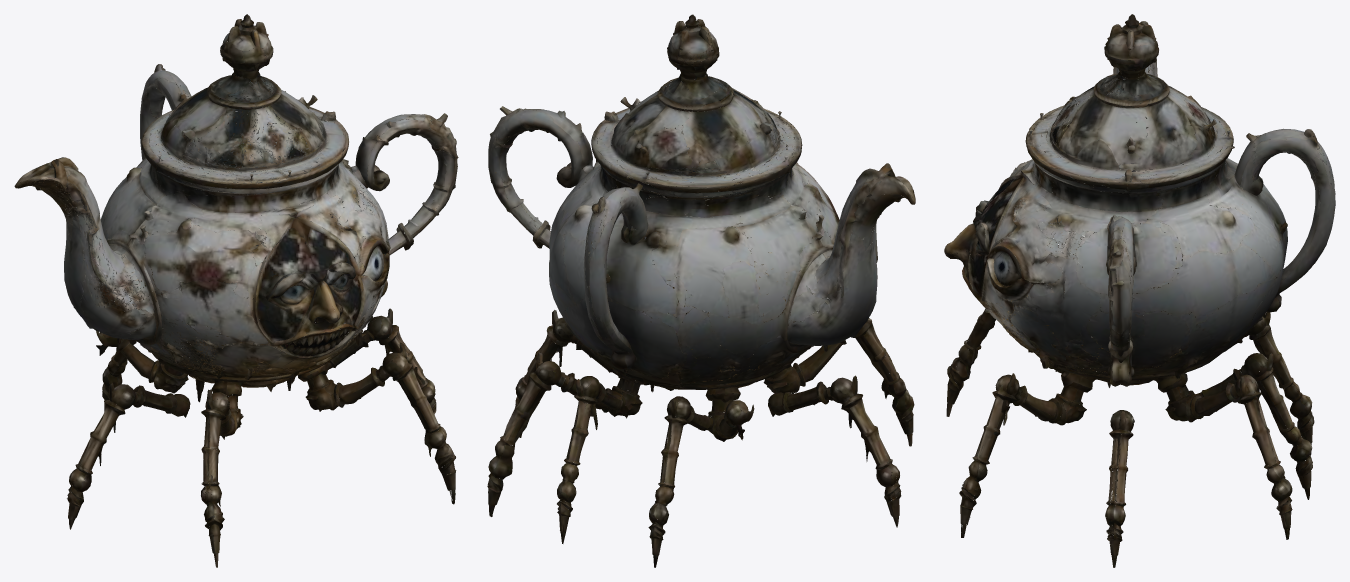
Rendered from mob-bule.glb.
3 renders of one model, left to right at view 1: azimuth 30°, elevation 25°; view 2: azimuth 150°, elevation 25°; view 3: azimuth 270°, elevation 25°, orthographic. The views are drawn at different scales.
Parts seen in each view (by area): view 1: node_0; view 2: node_0; view 3: node_0.
Part boxes in pixels (<box>): node_0: <box>14,14,458,567</box>; node_0: <box>487,14,915,567</box>; node_0: <box>944,14,1335,567</box>.
Bounding box in the file's own units: 0.8598 × 0.8901 × 0.6759.
1 material, 1 textured.
